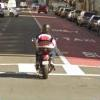Motorcycle: (23, 23, 62, 90)
